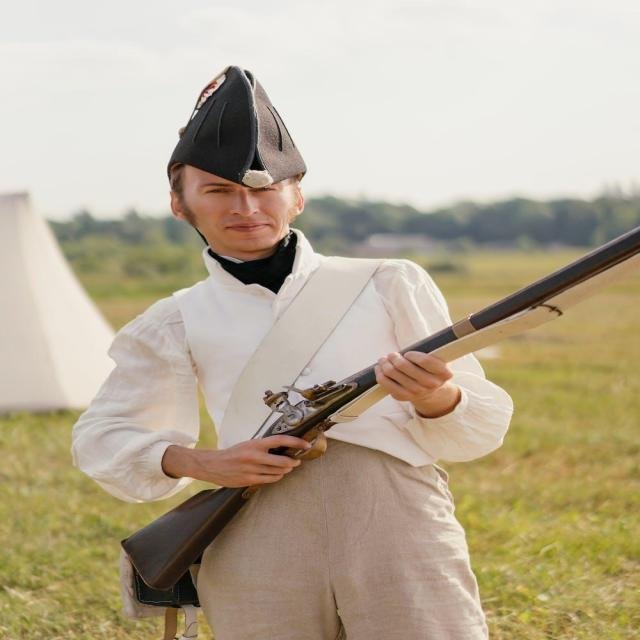Rifle: (118, 226, 640, 592)
